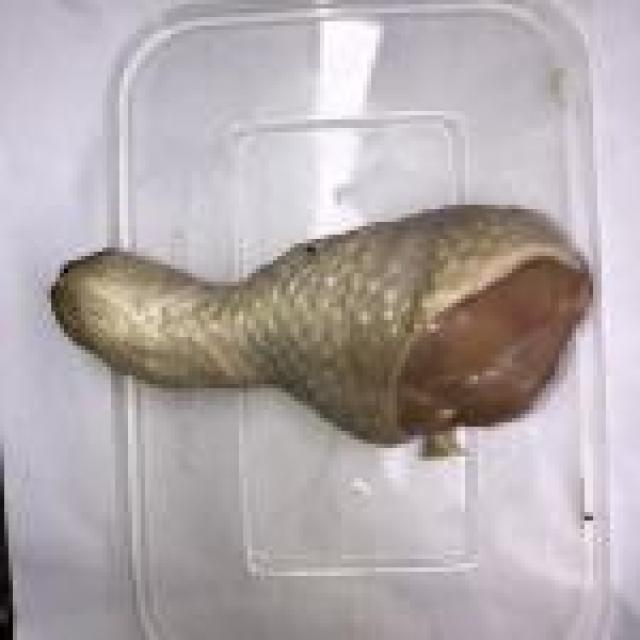leg: (42, 194, 594, 463)
